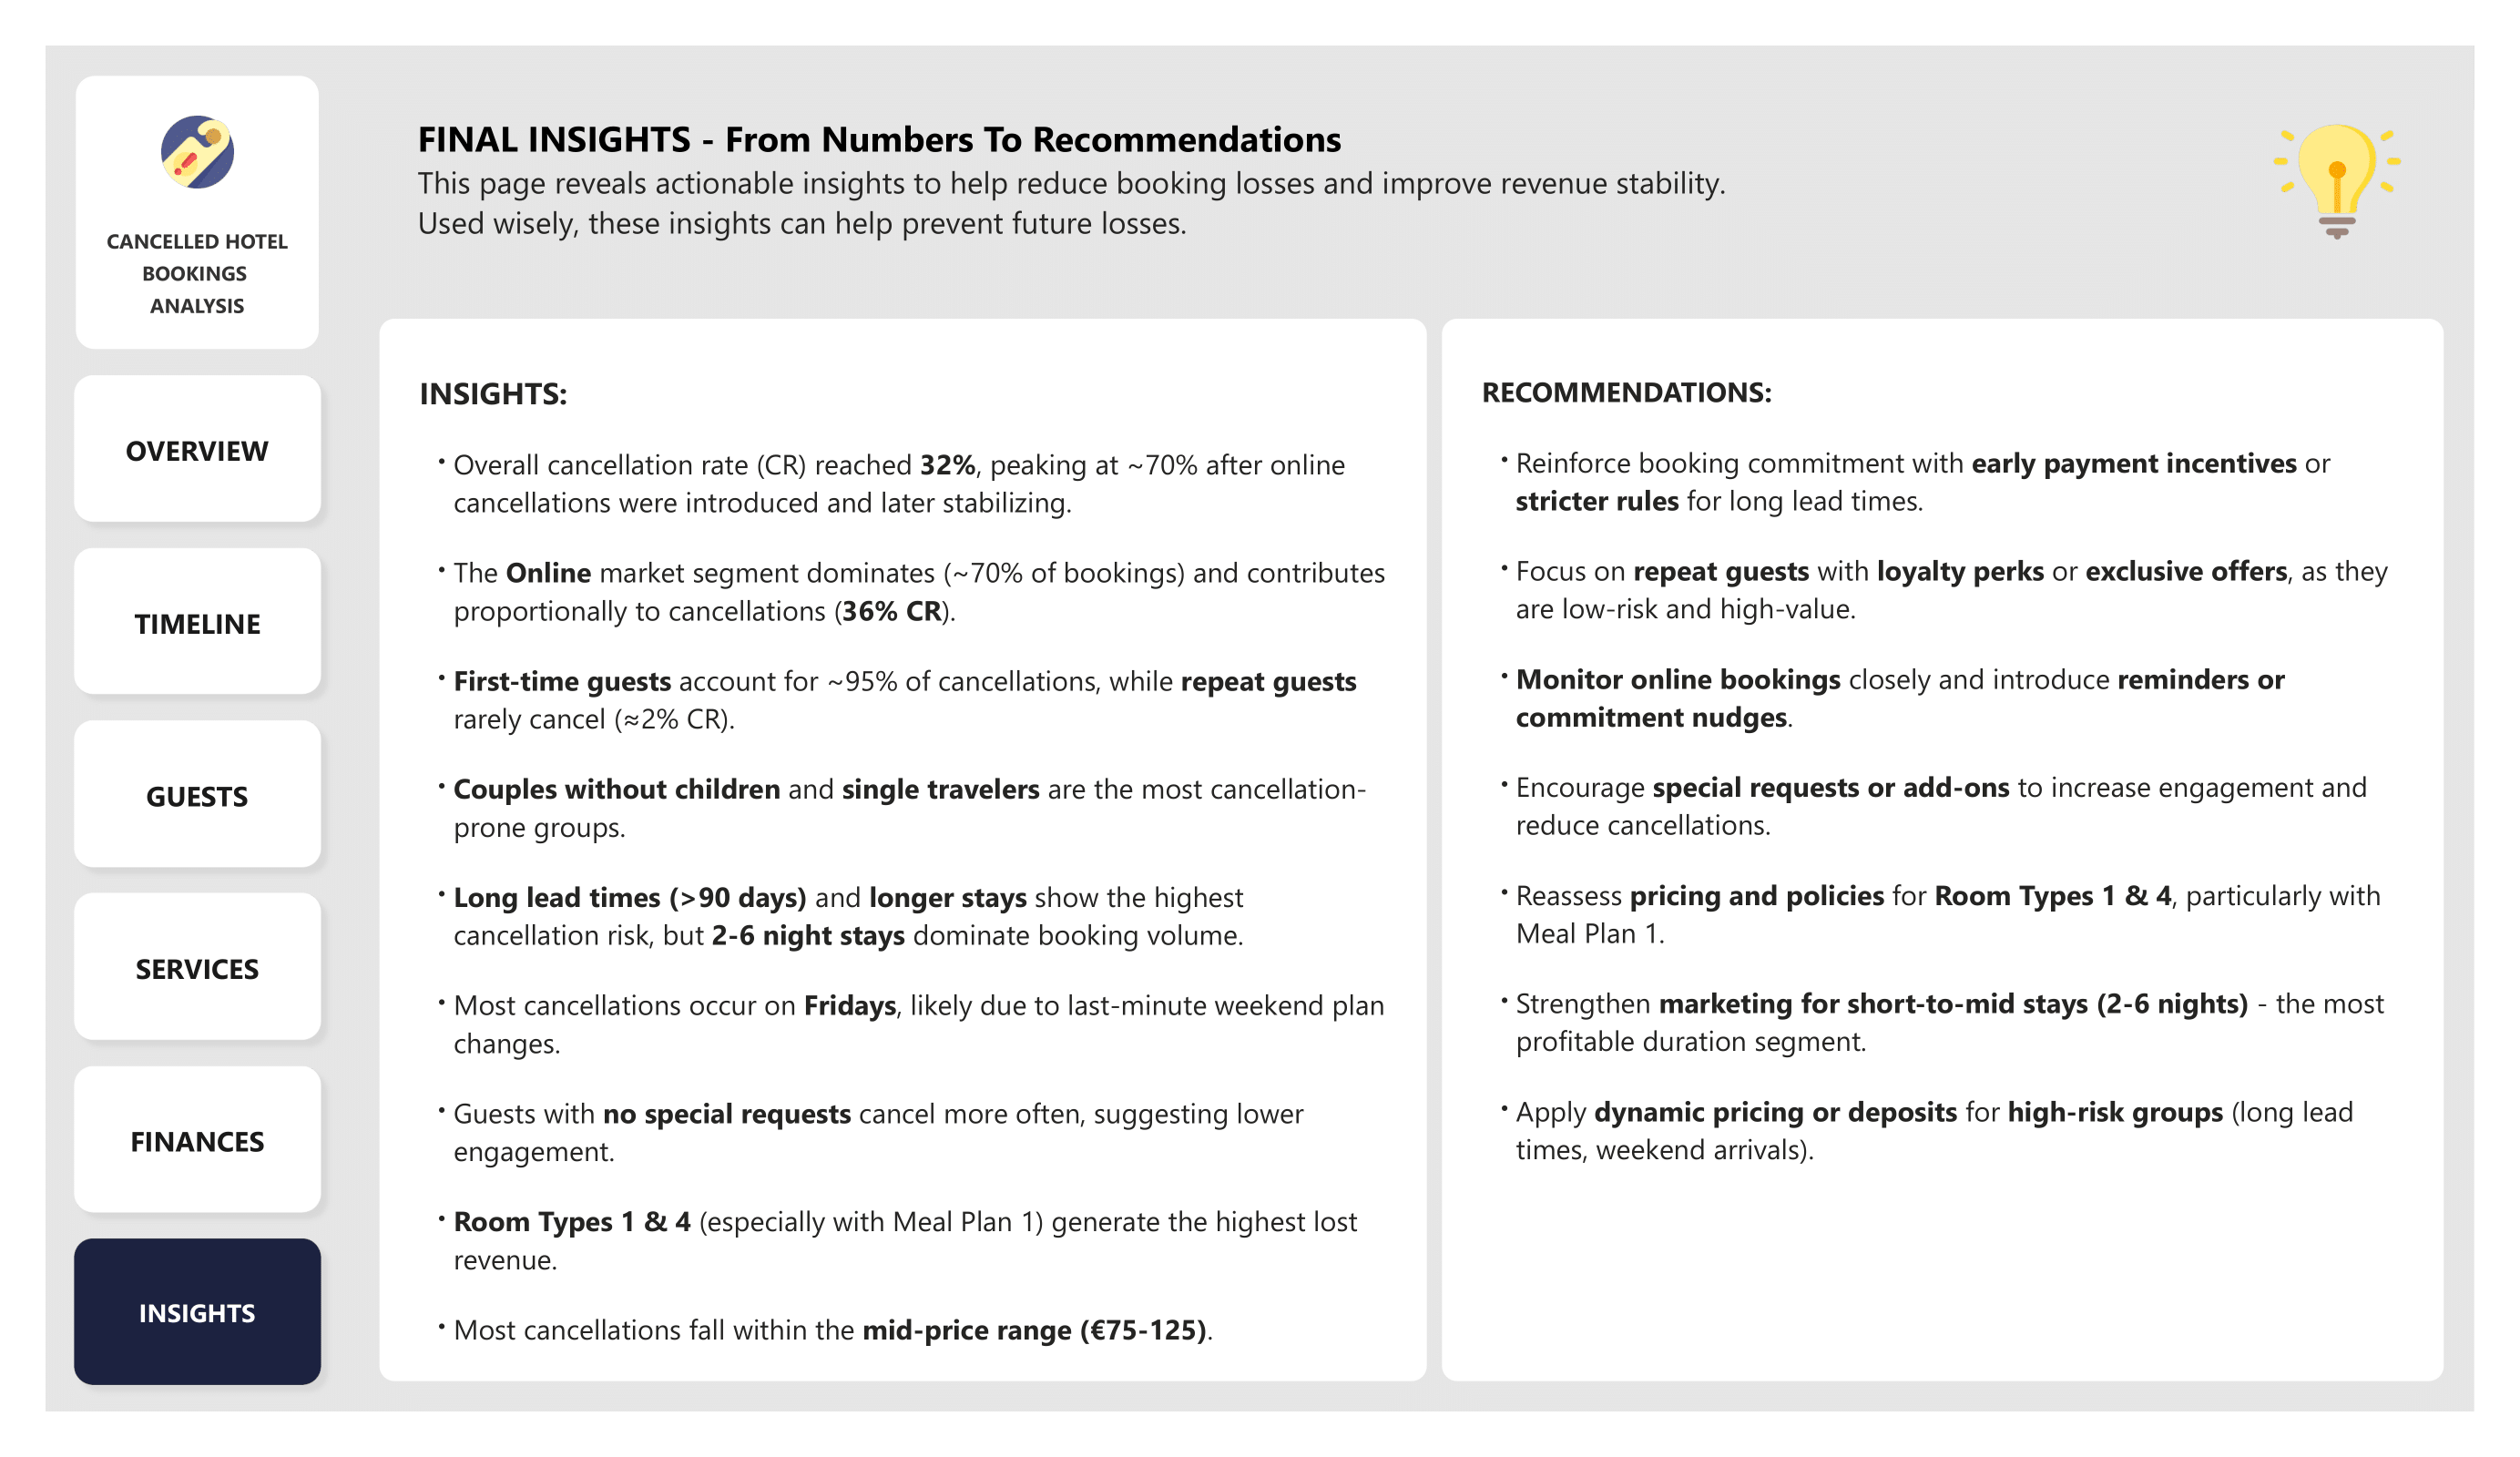

The page's visual inventory and layout, read from the dashboard file:
{"tool":"powerbi","page":{"name":"INSIGHTS","canvas":[1280,720],"ordinal":5},"visuals":[{"type":"textbox","box":[16,16,128,144],"z":0},{"type":"pageNavigator","box":[8.2,167.2,144.3,549.2],"z":1000},{"type":"image","box":[48,32,64,48],"z":2000},{"type":"textbox","box":[176,16,1088,112],"z":3000},{"type":"textbox","box":[176,144,552,560],"z":4000},{"type":"textbox","box":[736,144,528,560],"z":5000},{"type":"image","box":[1168,32,80,80],"z":6000}]}

Visuals, with their boxes on the page's 1280x720 design canvas (x1, y1, x2, y2). These are canvas units, not pixel positions in the 2520x1457 screenshot, which may show the page scaled, cropped or inside an application window:
textbox: <bbox>16, 16, 144, 160</bbox>
pageNavigator: <bbox>8, 167, 152, 716</bbox>
image: <bbox>48, 32, 112, 80</bbox>
textbox: <bbox>176, 16, 1264, 128</bbox>
textbox: <bbox>176, 144, 728, 704</bbox>
textbox: <bbox>736, 144, 1264, 704</bbox>
image: <bbox>1168, 32, 1248, 112</bbox>
